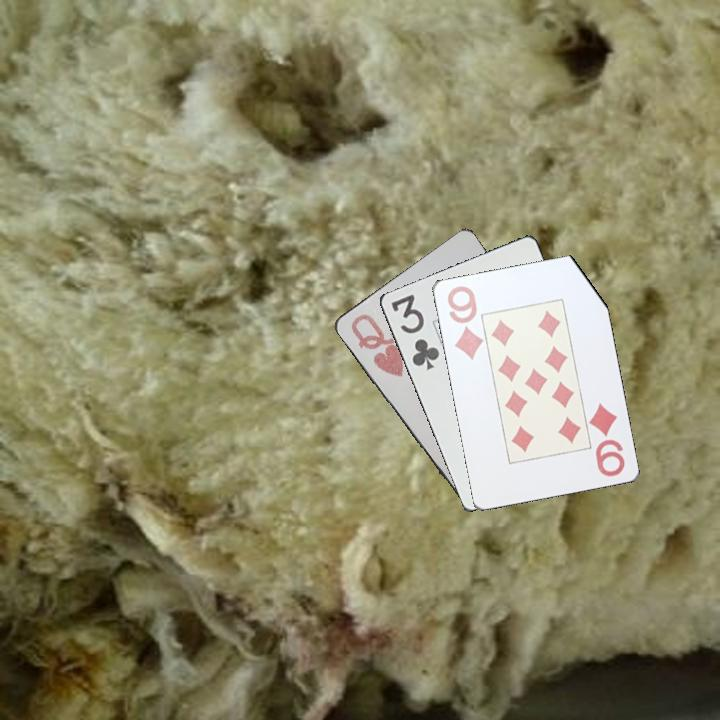3c: (387, 290, 442, 373)
9d: (443, 282, 485, 362), (586, 399, 628, 479)
Qh: (347, 310, 406, 380)
